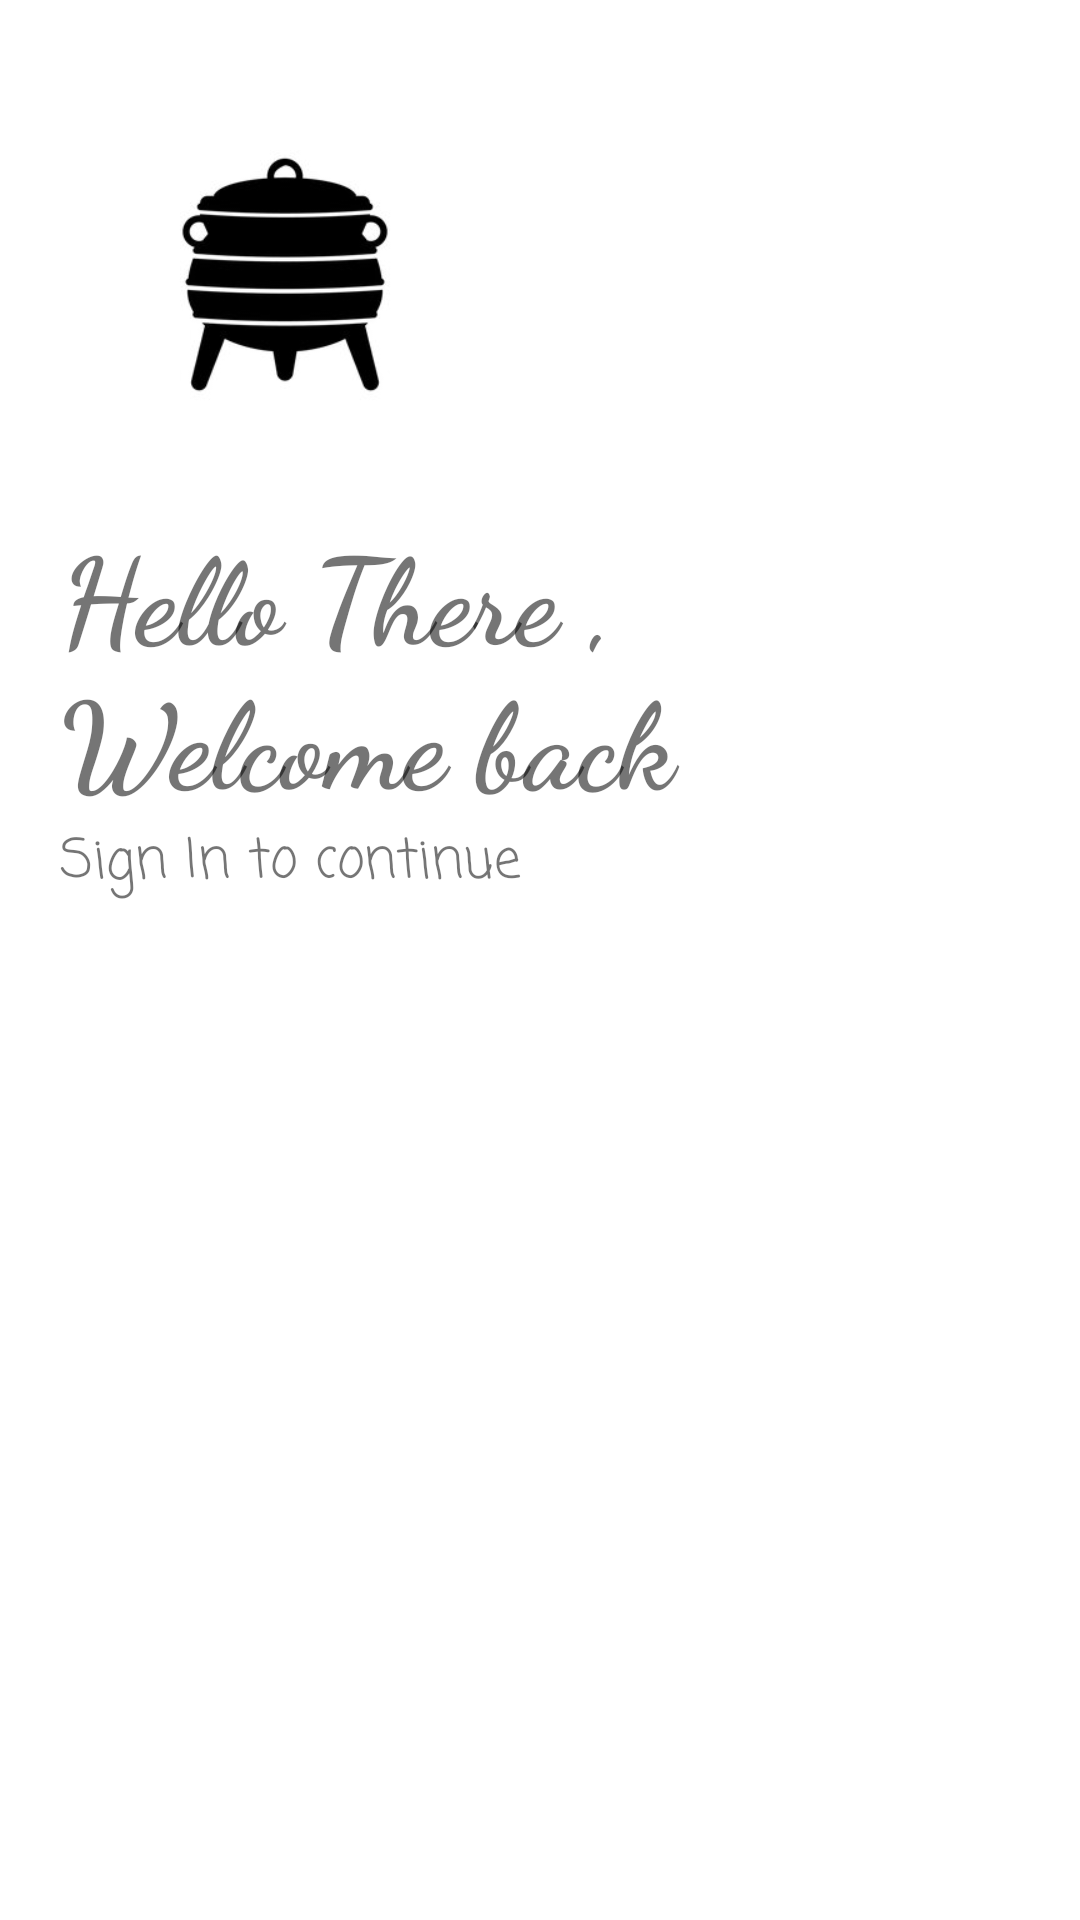

Named icons in this screenshot (1080 x 1920) and their centers, [x,y]:
pot: [285,275]
